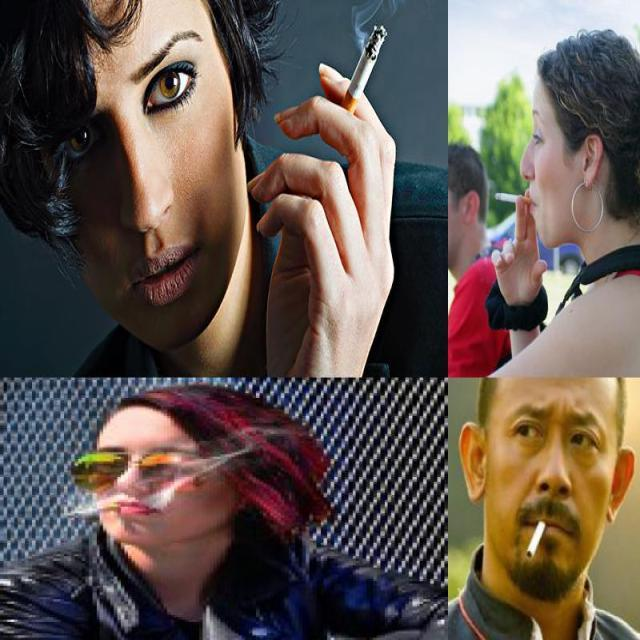smoking: (337, 16, 393, 130), (494, 183, 536, 223), (518, 512, 544, 559), (64, 502, 123, 518)
